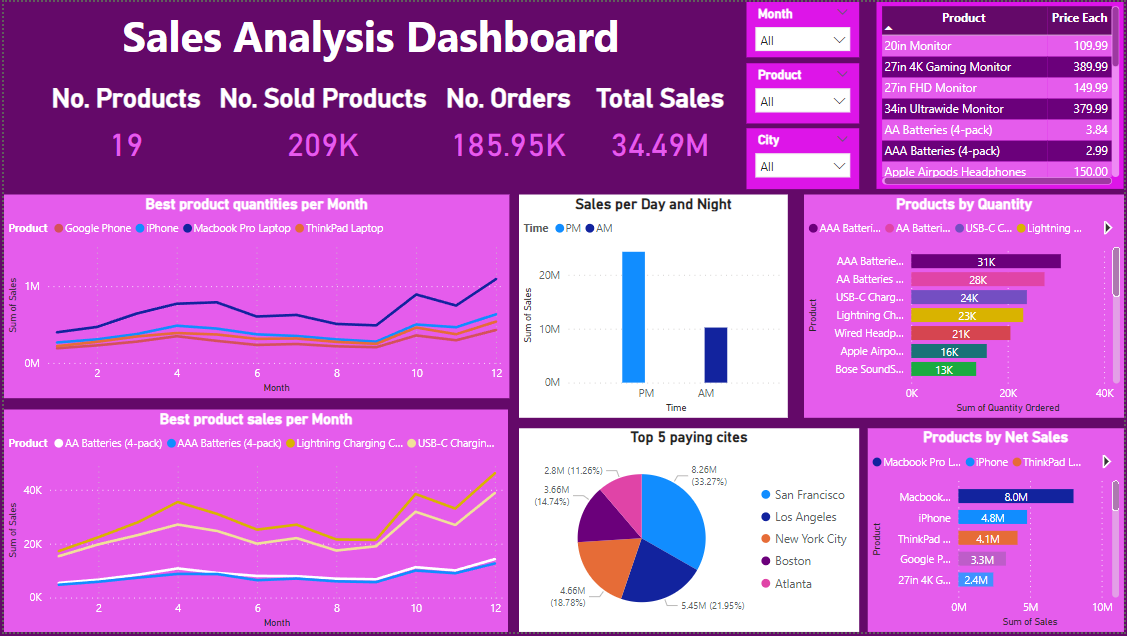

The dashboard page shown, as its layout file describes it:
{"tool":"powerbi","page":{"name":"Page 1","canvas":[1280,720],"ordinal":0},"visuals":[{"type":"card","title":"Total Sales","fields":{"Values":["Sum(Sales Data.Sales)"]},"box":[663.5,91.8,174.3,103.4],"z":0},{"type":"card","title":"No. Orders","fields":{"Values":["CountNonNull(Sales Data.Order ID)"]},"box":[490.3,91.8,173.1,103.4],"z":1000},{"type":"card","title":"No. Sold Products","fields":{"Values":["Sum(Sales Data.Quantity Ordered)"]},"box":[238.2,91.8,252.1,103.4],"z":2000},{"type":"card","title":"No. Products","fields":{"Values":["Count(Sales Data.Product)"]},"box":[41.8,91.8,196.4,103.4],"z":3000},{"type":"barChart","title":"Products by Net Sales","fields":{"Category":["Sales Data.Product"],"Y":["Sum(Sales Data.Sales)"],"Series":["Sales Data.Product"]},"box":[987.5,487.5,292.5,232.5],"z":4000},{"type":"pieChart","title":"Top 5 paying cites","fields":{"Category":["Sales Data.City"],"Y":["Sum(Sales Data.Sales)"]},"box":[588.8,487.5,388.8,232.5],"z":5000},{"type":"clusteredColumnChart","title":"Sales per Day and Night ","fields":{"Category":["Sales Data.Time"],"Series":["Sales Data.Time"],"Y":["Sum(Sales Data.Sales)"]},"box":[588.8,220,307.5,255],"z":6000},{"type":"barChart","title":"Products by Quantity","fields":{"Category":["Sales Data.Product"],"Y":["Sum(Sales Data.Quantity Ordered)"],"Series":["Sales Data.Product"]},"box":[913.8,220,366.2,255],"z":7000},{"type":"tableEx","fields":{"Values":["Sales Data.Product","Sales Data.Price Each"]},"box":[997.5,0,282.5,213.8],"z":8000},{"type":"slicer","fields":{"Values":["Sales Data.Product"]},"box":[848.6,69.3,128.6,68.6],"z":9000},{"type":"slicer","fields":{"Values":["Sales Data.Month"]},"box":[848.6,0,128.6,62.9],"z":10000},{"type":"slicer","fields":{"Values":["Sales Data.City"]},"box":[848.6,144.3,128.6,69.3],"z":11000},{"type":"lineChart","title":"Best product quantities per Month","fields":{"Category":["Sales Data.Month"],"Series":["Sales Data.Product"],"Y":["Sum(Sales Data.Sales)"]},"box":[0,220,577.5,232.5],"z":12000},{"type":"lineChart","title":"Best product sales per Month ","fields":{"Y":["Sum(Sales Data.Sales)"],"Category":["Sales Data.Month"],"Series":["Sales Data.Product"]},"box":[0,465,576.2,255],"z":13000},{"type":"textbox","box":[0,0,838.8,91.2],"z":14000}]}

Visuals, with their boxes in screenshot pixels (x1, y1, x2, y2), scaled from the page's 1280x720 canvas onto the 1127x636 screenshot:
"Total Sales" card: l=584, t=81, r=738, b=172
"No. Orders" card: l=432, t=81, r=584, b=172
"No. Sold Products" card: l=210, t=81, r=432, b=172
"No. Products" card: l=37, t=81, r=210, b=172
"Products by Net Sales" barChart: l=869, t=431, r=1126, b=635
"Top 5 paying cites" pieChart: l=518, t=431, r=861, b=635
"Sales per Day and Night " clusteredColumnChart: l=518, t=194, r=789, b=420
"Products by Quantity" barChart: l=805, t=194, r=1126, b=420
tableEx - Sales Data.Product x Sales Data.Price Each: l=878, t=0, r=1126, b=189
slicer - Sales Data.Product: l=747, t=61, r=860, b=122
slicer - Sales Data.Month: l=747, t=0, r=860, b=56
slicer - Sales Data.City: l=747, t=127, r=860, b=189
"Best product quantities per Month" lineChart: l=0, t=194, r=508, b=400
"Best product sales per Month " lineChart: l=0, t=411, r=507, b=635
textbox: l=0, t=0, r=739, b=81
